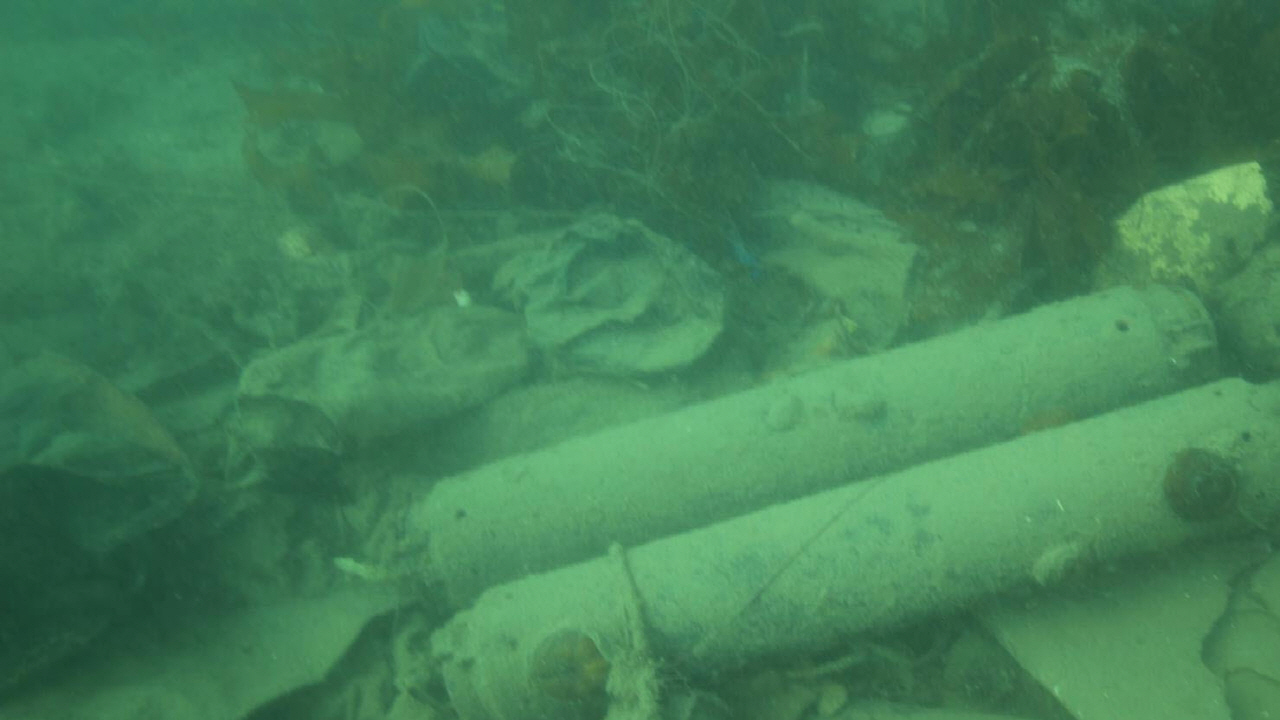bundle of ropes: (600, 533, 734, 720)
eel fish trap: (432, 375, 1280, 716), (412, 279, 1220, 615)
